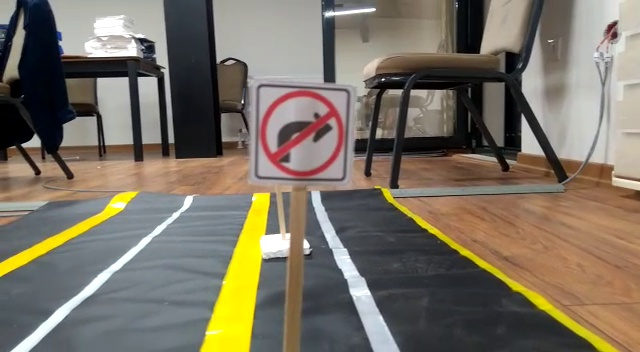saga_donulmez: (253, 85, 349, 182)
